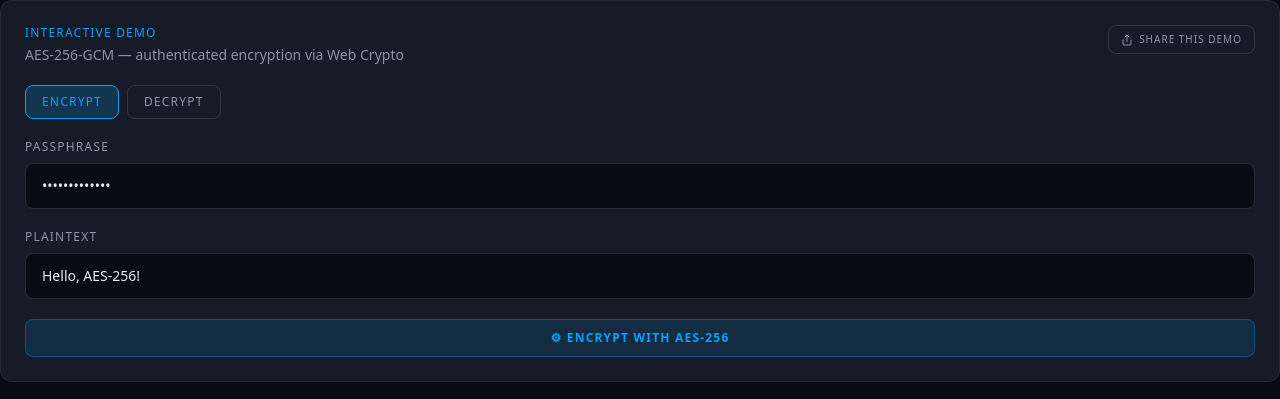
Test case: AESDemo › encrypt run button is disabled with empty input
Clear the field with test id "aes-plaintext" at x=640, y=276, box [25, 253, 1255, 299]
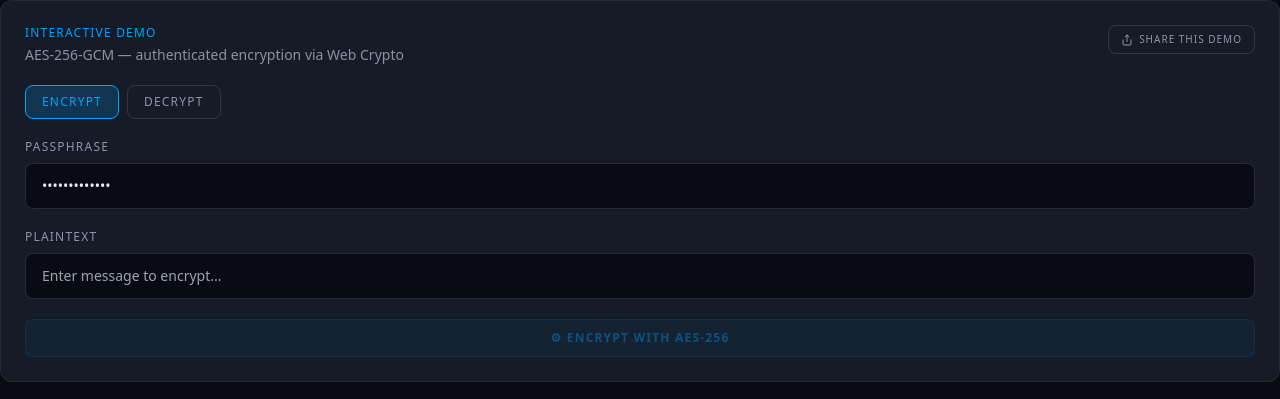
Check: the button with test id "aes-encrypt-run-btn" is disabled, box [25, 319, 1255, 357]
